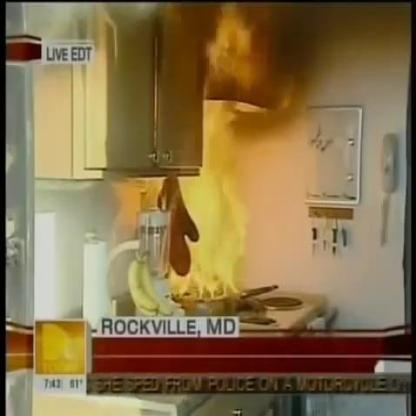fire: (143, 9, 264, 300)
